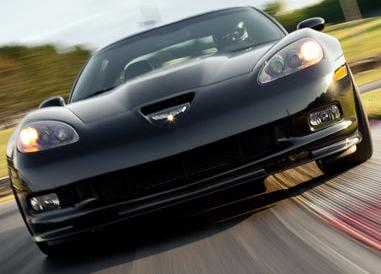front_view: (6, 24, 365, 268)
headlight: (254, 32, 327, 88)
